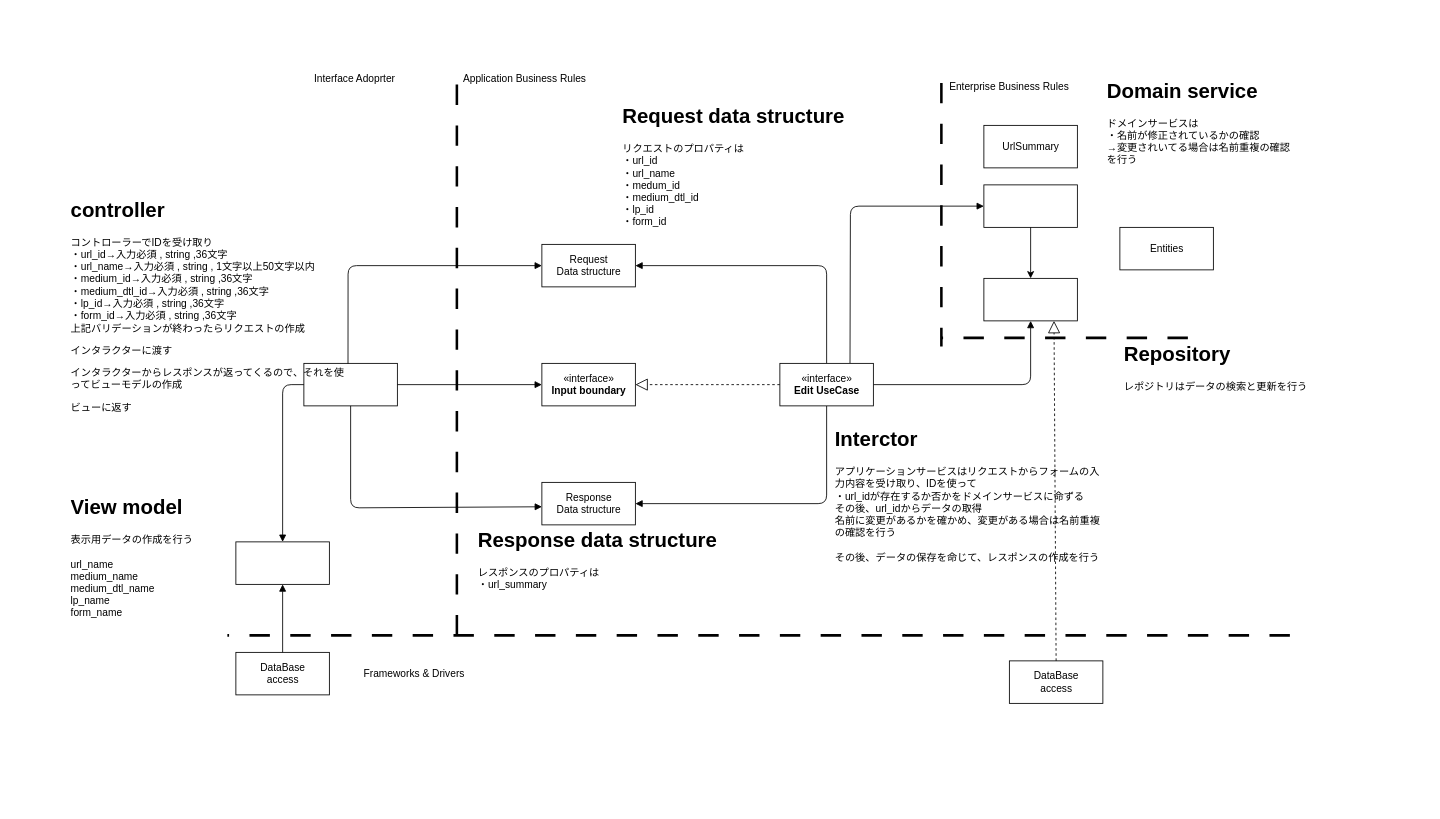
Some shapes in this 1440 by 819 pixel diagram are drawn without their labels. The box of each missing label's shape, as (x1, y1, x2, y2) in pixels:
Controller: (303, 363, 397, 406)
Domain Service: (983, 184, 1077, 227)
ViewModel Data structure: (235, 541, 329, 584)
«interface» Repository: (983, 278, 1077, 321)
